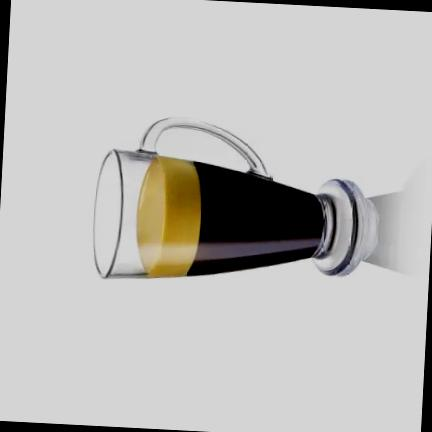container: (93, 149, 377, 277)
fluid: (149, 155, 324, 277)
fluid-surface: (134, 154, 169, 273)
